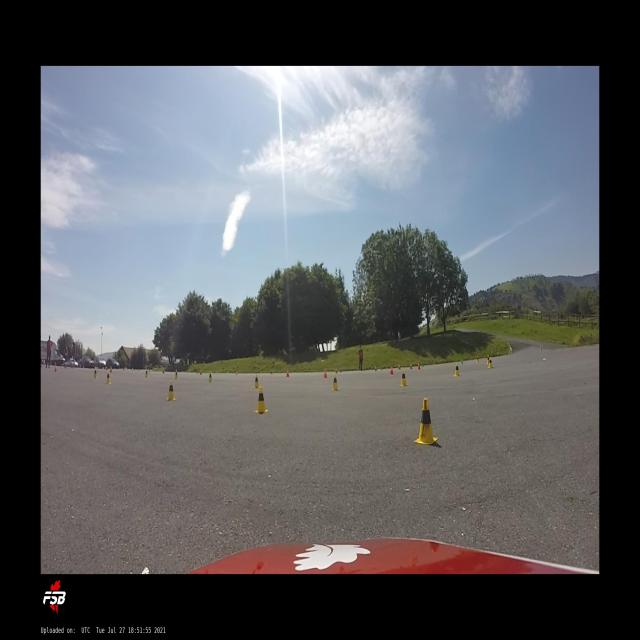orange_cone: (389, 367, 394, 375), (324, 370, 327, 378), (286, 370, 289, 377), (418, 363, 420, 369)
yellow_cone: (414, 399, 438, 444), (254, 387, 268, 412), (166, 379, 176, 401), (400, 371, 408, 386), (332, 375, 339, 391), (453, 363, 460, 377), (253, 375, 259, 388), (488, 358, 493, 368), (106, 373, 110, 385), (94, 367, 98, 378), (208, 373, 212, 383), (486, 355, 489, 365), (175, 370, 178, 379), (145, 370, 148, 378)
